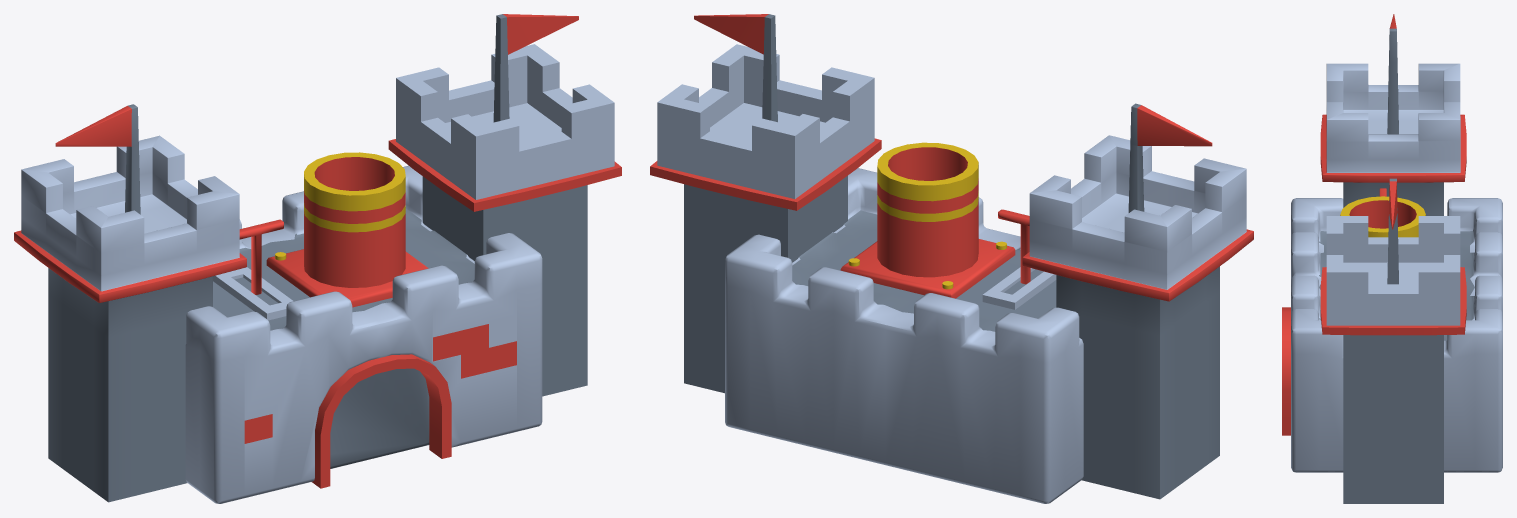
Rendered from castle_red.fbx.
The picture shows the model from 3 angles, left to right: view 1: azimuth 30°, elevation 25°; view 2: azimuth 150°, elevation 25°; view 3: azimuth 270°, elevation 25°; orthographic projection. The views are drawn at different scales.
Visible parts, largest first — view 1: wBox.003, wTube.005, Cube.002; view 2: wBox.003, wTube.005, Cube.002; view 3: wBox.003, wTube.005.
Part boxes in pixels (x1,y1,x2,y2): wBox.003: [14, 14, 621, 503]; wTube.005: [266, 152, 428, 307]; Cube.002: [239, 219, 283, 294]; wBox.003: [650, 14, 1253, 503]; wTube.005: [840, 142, 1015, 298]; Cube.002: [998, 209, 1030, 284]; wBox.003: [1282, 14, 1502, 503]; wTube.005: [1340, 196, 1425, 237].
Bounding box in the file's own units: 1006 × 664 × 438.
